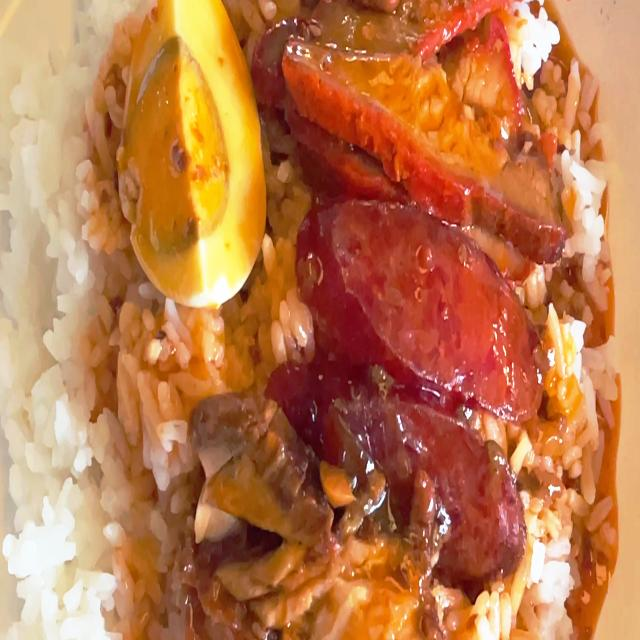boiled_egg: (138, 22, 240, 285)
chainese_sausage: (289, 214, 523, 510)
crispy_pork: (204, 420, 304, 606), (299, 529, 464, 640)
red_pork: (281, 0, 542, 214)
red_pork_and_crispy_pork: (6, 0, 612, 640)
rice: (19, 0, 126, 640), (106, 294, 195, 640)
